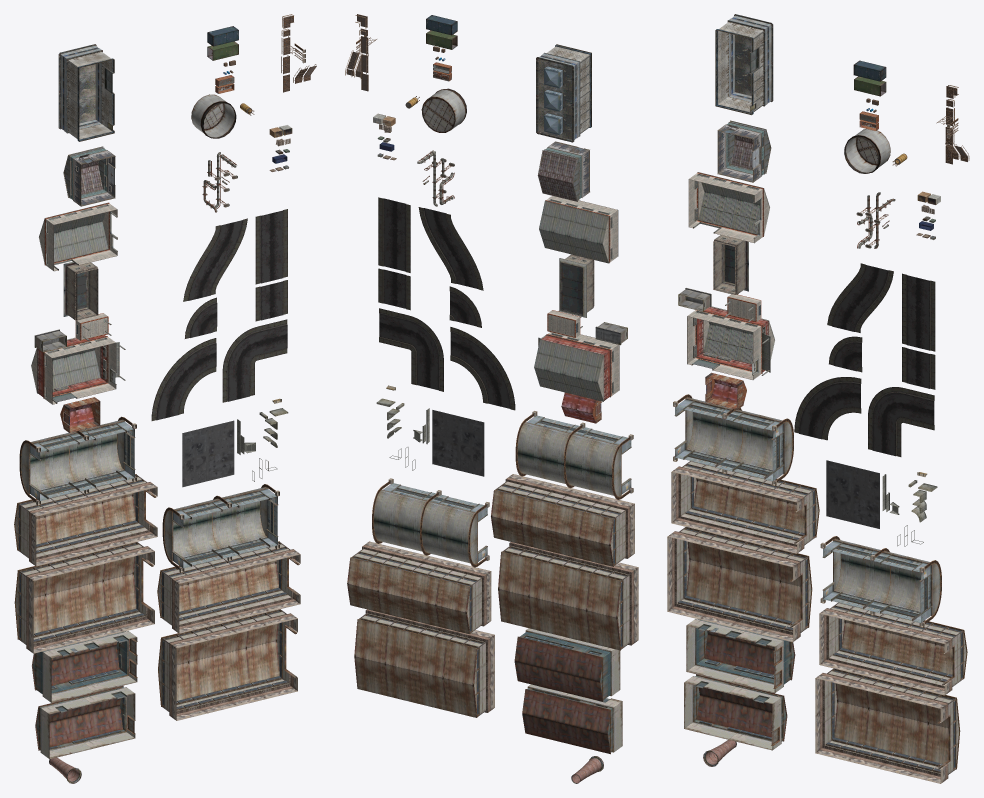
File: IndustrialHorror_PS_like.fbx
The picture shows the model from 3 angles, left to right: view 1: azimuth 30°, elevation 25°; view 2: azimuth 150°, elevation 25°; view 3: azimuth 330°, elevation 25°; orthographic projection. The views are drawn at different scales.
Visible parts, largest first — view 1: Building_10, Building_10.001, Building_9, Building_9.001, Building_8.001, Building_8, Building_11, Building_12, Building_1, Building_6, Building_3, Road_turn_3 (+12 smaller); view 2: Building_10, Building_10.001, Building_9.001, Building_9, Building_8, Building_8.001, Building_11, Building_12, Building_1, Building_6, Building_3, Road_turn_3 (+12 smaller); view 3: Building_10, Building_10.001, Building_9, Building_9.001, Building_8.001, Building_8, Building_11, Building_12, Building_1, Building_6, Building_3, Road_turn_3 (+12 smaller).
Boxes of the visible parts, <box> form: Building_10: <box>14,542,154,653</box>; Building_10.001: <box>158,609,297,720</box>; Building_9: <box>14,474,157,566</box>; Building_9.001: <box>157,541,300,633</box>; Building_8.001: <box>162,484,279,572</box>; Building_8: <box>19,416,136,505</box>; Building_11: <box>32,631,137,702</box>; Building_12: <box>35,685,135,759</box>; Building_1: <box>58,44,114,141</box>; Building_6: <box>31,335,125,404</box>; Building_3: <box>39,202,117,271</box>; Road_turn_3: <box>222,319,287,402</box>; Building_10: <box>498,542,638,650</box>; Building_10.001: <box>354,609,494,717</box>; Building_9.001: <box>347,541,491,634</box>; Building_9: <box>491,474,634,566</box>; Building_8: <box>515,411,633,499</box>; Building_8.001: <box>372,478,489,567</box>; Building_11: <box>514,628,620,701</box>; Building_12: <box>522,684,622,754</box>; Building_1: <box>536,44,591,142</box>; Building_6: <box>534,332,619,401</box>; Building_3: <box>539,195,618,263</box>; Road_turn_3: <box>379,308,443,391</box>; Building_10: <box>667,527,812,642</box>; Building_10.001: <box>815,668,960,783</box>; Building_9: <box>671,461,819,553</box>; Building_9.001: <box>819,602,967,695</box>; Building_8.001: <box>820,536,941,627</box>; Building_8: <box>673,394,793,485</box>; Building_11: <box>686,619,795,693</box>; Building_12: <box>684,674,787,750</box>; Building_1: <box>715,14,773,115</box>; Building_6: <box>687,306,774,379</box>; Building_3: <box>688,172,769,243</box>; Road_turn_3: <box>868,387,934,456</box>.
Size of the model in its own units: 8775 by 21137 by 1309.
